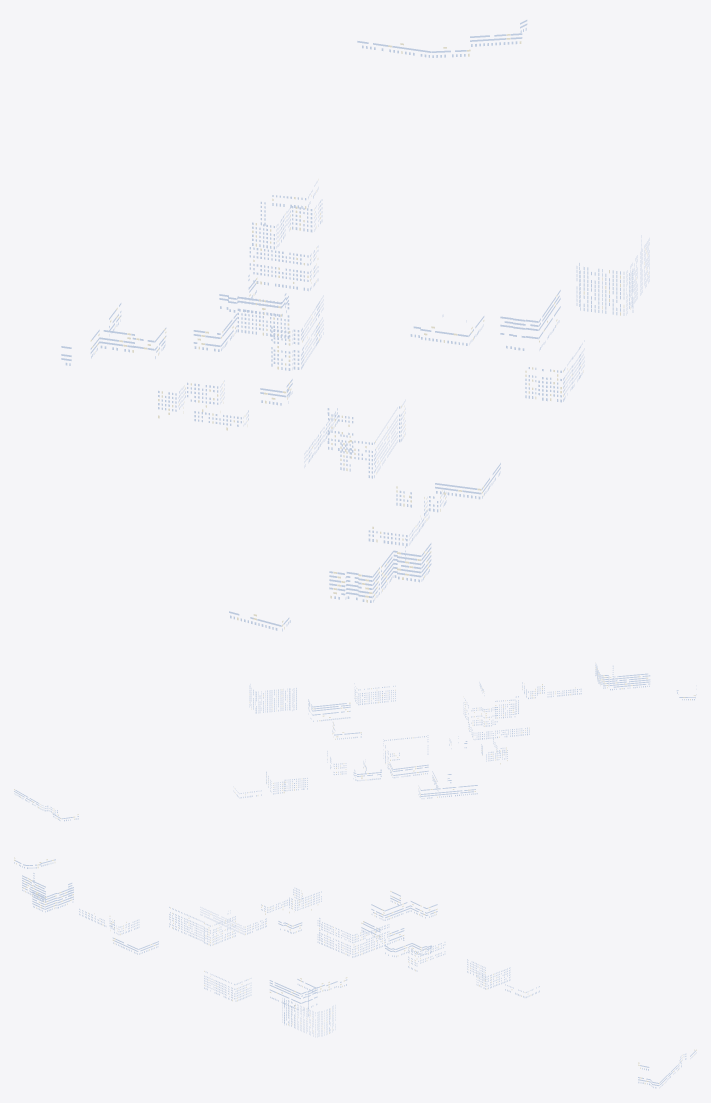
Rendered from buildings-medical-lights.glb.
3 renders of one model, top to bottom at view 1: azimuth 30°, elevation 25°; view 2: azimuth 150°, elevation 25°; view 3: azimuth 270°, elevation 25°, orthographic. The views are drawn at different scales.
Parts seen in each view (by area): view 1: buildings-medical-lights; view 2: buildings-medical-lights; view 3: buildings-medical-lights.
Boxes of the visible parts, box(x1,y1,x2,y2) form: buildings-medical-lights: box(61, 20, 649, 631); buildings-medical-lights: box(14, 662, 696, 821); buildings-medical-lights: box(14, 857, 696, 1088).
Size of the model in its own units: 758 by 42.6 by 939.
